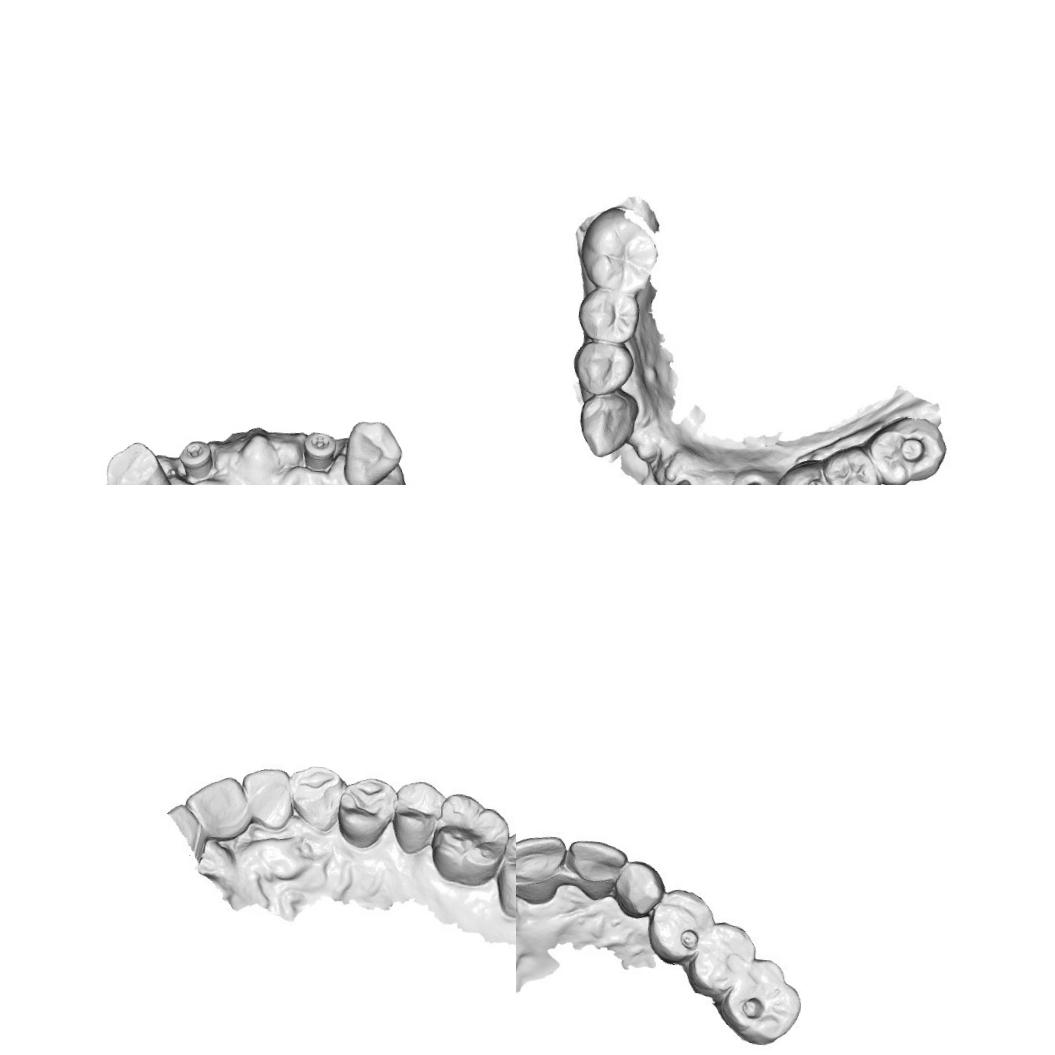canine: (337, 416, 406, 485), (284, 762, 342, 837), (100, 435, 181, 485), (611, 855, 668, 920)
implant: (176, 436, 216, 482)
implant_plus: (299, 429, 339, 470)
incisor: (559, 834, 629, 909), (186, 773, 252, 844), (236, 762, 296, 830), (516, 827, 565, 907)
molar: (712, 950, 802, 1052), (576, 202, 663, 294), (428, 792, 510, 885), (863, 411, 946, 485), (485, 829, 516, 918)
premolar: (686, 920, 763, 1000), (644, 886, 710, 968), (568, 390, 636, 460), (388, 780, 447, 858), (574, 282, 642, 346), (564, 336, 632, 396), (334, 775, 392, 845), (823, 448, 874, 485), (777, 464, 835, 485)
